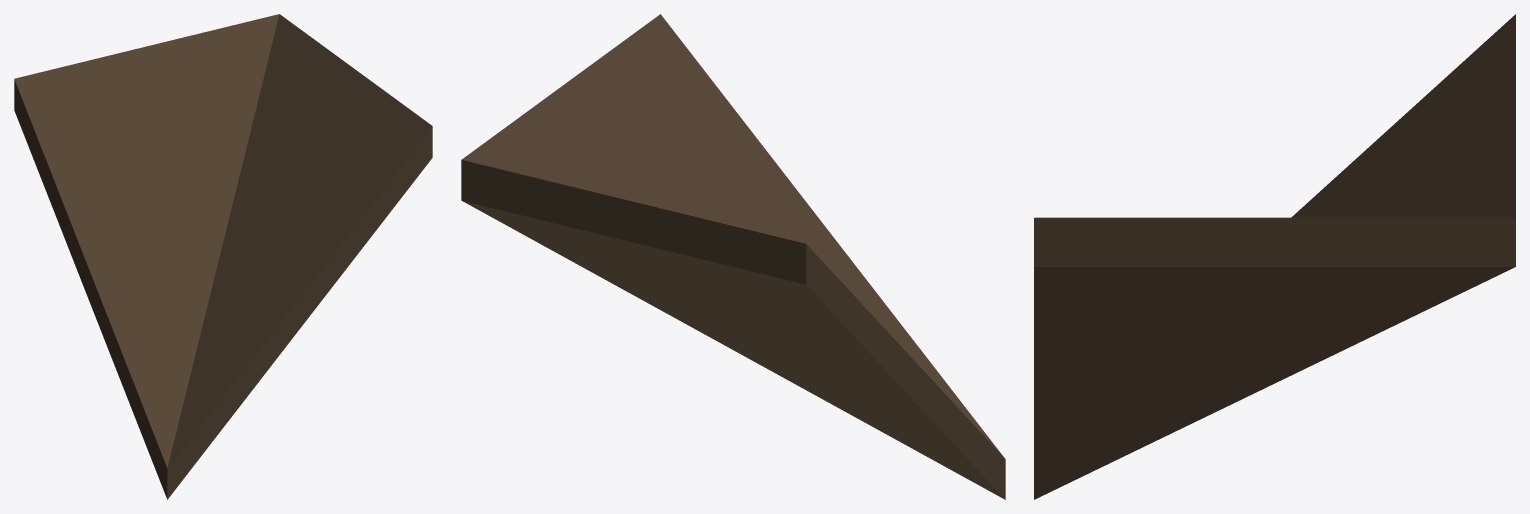
The model's file is dach_kehle_1x1.glb.
3 views of the same model, side by side, from view 1: azimuth 30°, elevation 25°; view 2: azimuth 150°, elevation 25°; view 3: azimuth 270°, elevation 25° (orthographic). The views are drawn at different scales.
Parts seen in each view (by area): view 1: dach_kehle_1x1; view 2: dach_kehle_1x1; view 3: dach_kehle_1x1.
Boxes of the visible parts, x1,y1,x2,y2 form: dach_kehle_1x1: [14, 14, 432, 499]; dach_kehle_1x1: [461, 14, 1005, 499]; dach_kehle_1x1: [1034, 14, 1515, 499].
Size of the model in its own units: 1 by 1.11 by 1.
